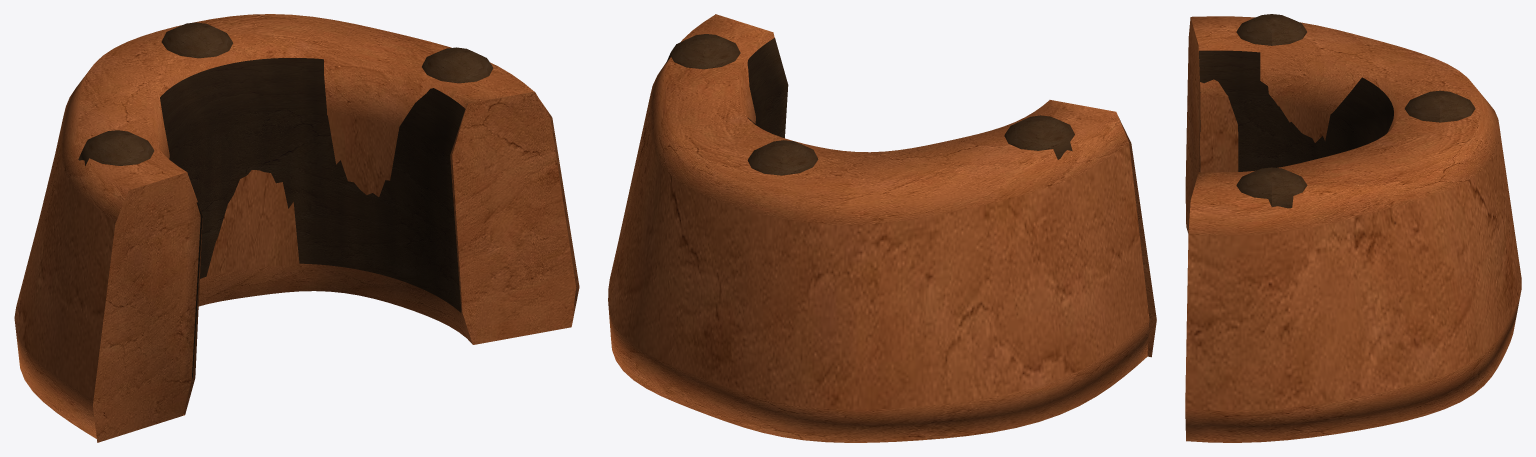
The model's file is prop_chula.glb.
3 views of the same model, side by side, from view 1: azimuth 30°, elevation 25°; view 2: azimuth 150°, elevation 25°; view 3: azimuth 270°, elevation 25° (orthographic). The views are drawn at different scales.
Parts seen in each view (by area): view 1: prop_chula; view 2: prop_chula; view 3: prop_chula.
Part boxes in pixels (box(x1,y1,x2,y2)): prop_chula: box(14, 14, 579, 442); prop_chula: box(608, 14, 1156, 442); prop_chula: box(1185, 14, 1521, 442).
Size of the model in its own units: 0.5 by 0.25 by 0.32.
2 materials, 2 textured.
